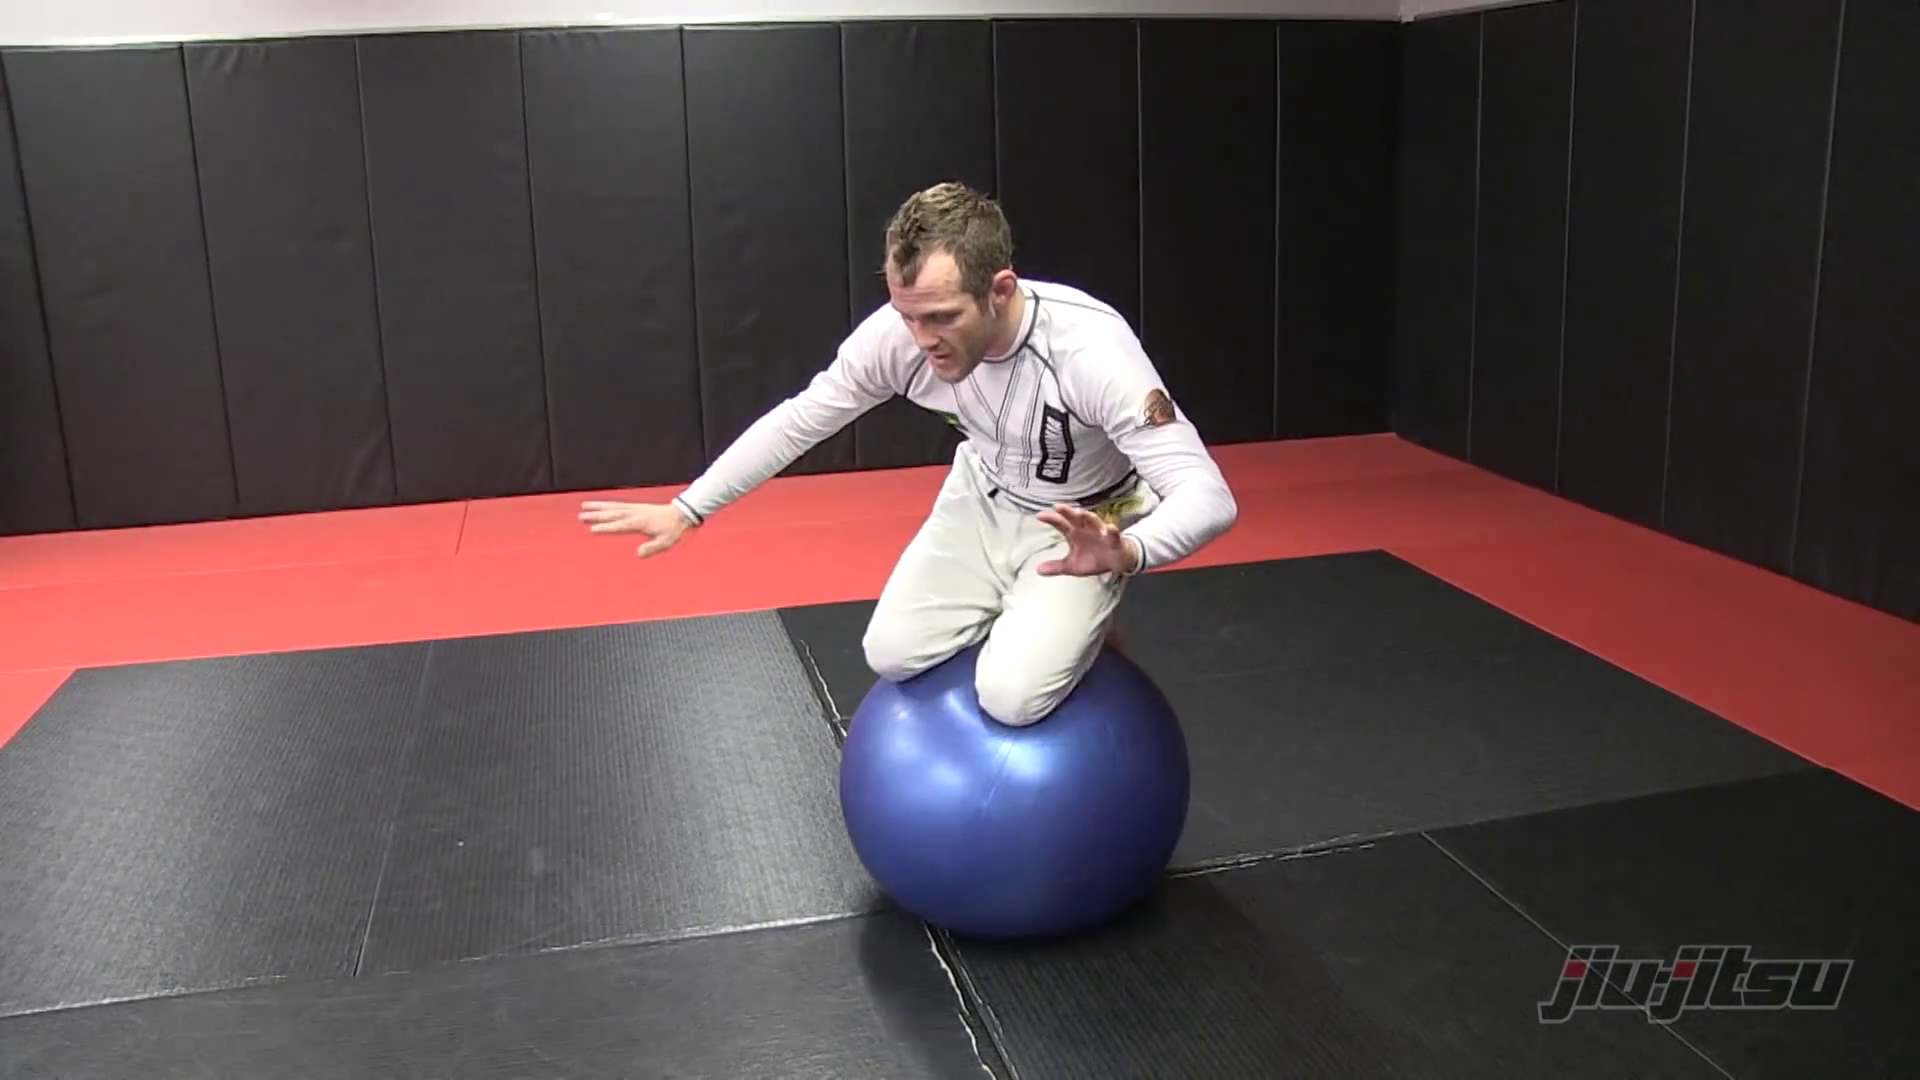yogaball: (827, 616, 1230, 981)
